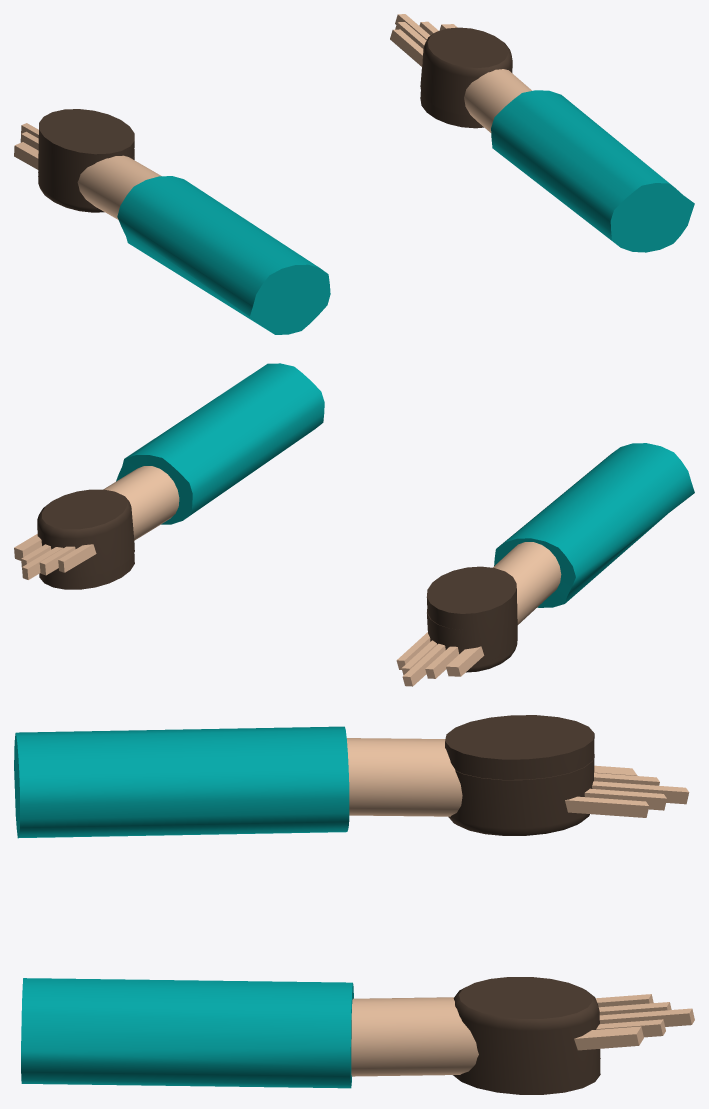
File: body and arms.fbx
The picture shows the model from 3 angles, top to bottom: view 1: azimuth 30°, elevation 25°; view 2: azimuth 150°, elevation 25°; view 3: azimuth 270°, elevation 25°; orthographic projection. The views are drawn at different scales.
Parts seen in each view (by area): view 1: arm:group7_arm:pasted__pasted__pCylinder3; view 2: arm:group7_arm:pasted__pasted__pCylinder3; view 3: arm:group7_arm:pasted__pasted__pCylinder3.
Boxes of the visible parts, <box> form: arm:group7_arm:pasted__pasted__pCylinder3: <box>14,14,694,334</box>; arm:group7_arm:pasted__pasted__pCylinder3: <box>14,363,694,686</box>; arm:group7_arm:pasted__pasted__pCylinder3: <box>14,715,694,1094</box>.
Bounding box in the file's own units: 1.17 × 0.185 × 1.14.
